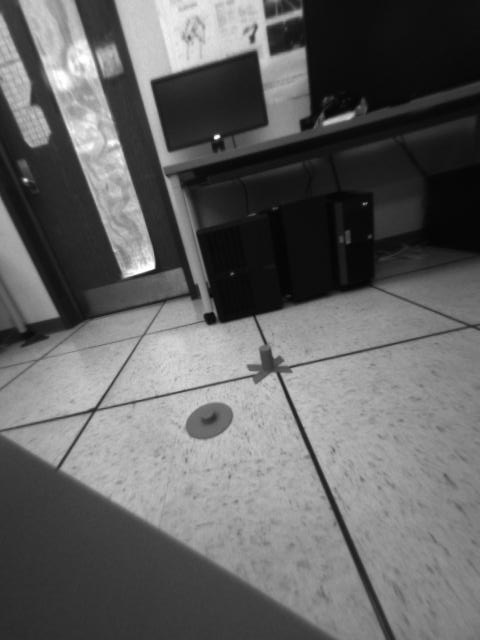X: (246, 345, 293, 383)
